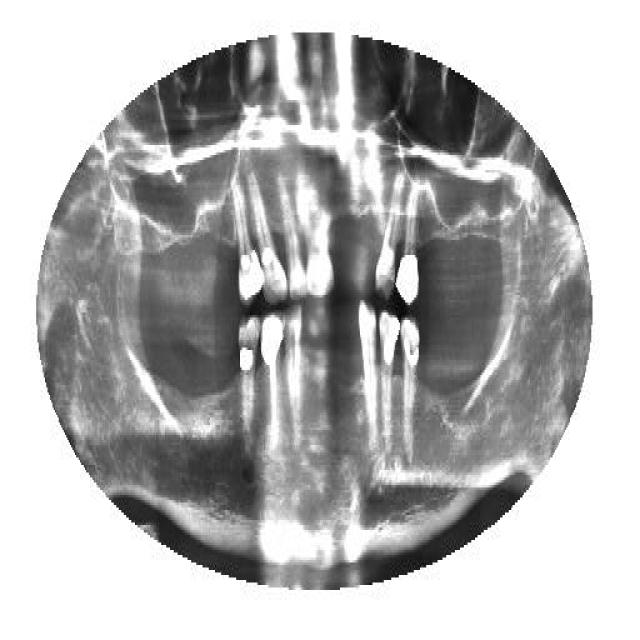Fillings: (230, 177, 266, 305), (400, 317, 421, 475), (378, 305, 400, 445), (396, 192, 422, 308), (239, 315, 261, 445)
Implant: (261, 312, 284, 438)
